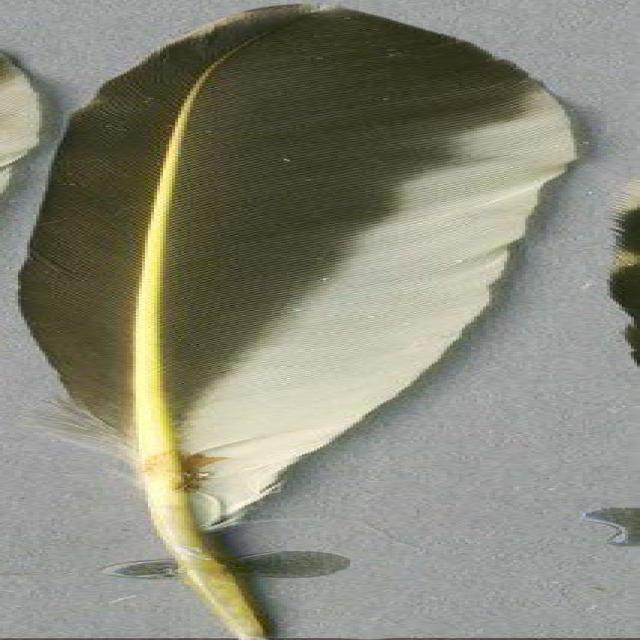feather: (18, 3, 586, 640)
